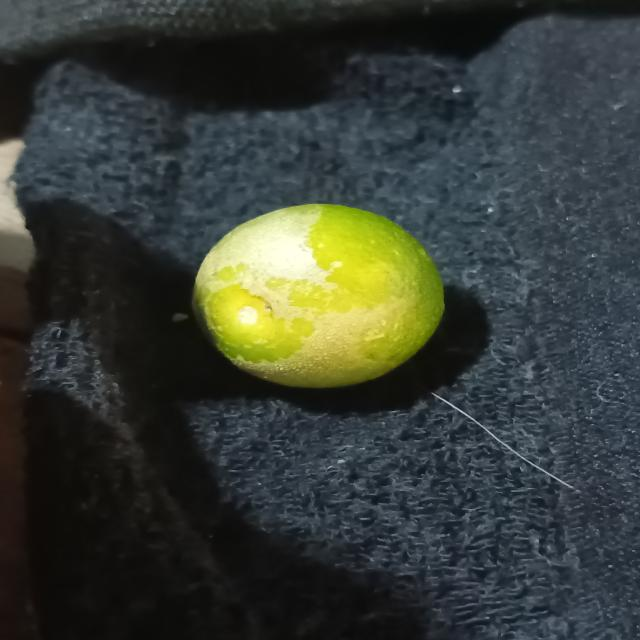thrips: (182, 203, 442, 393)
